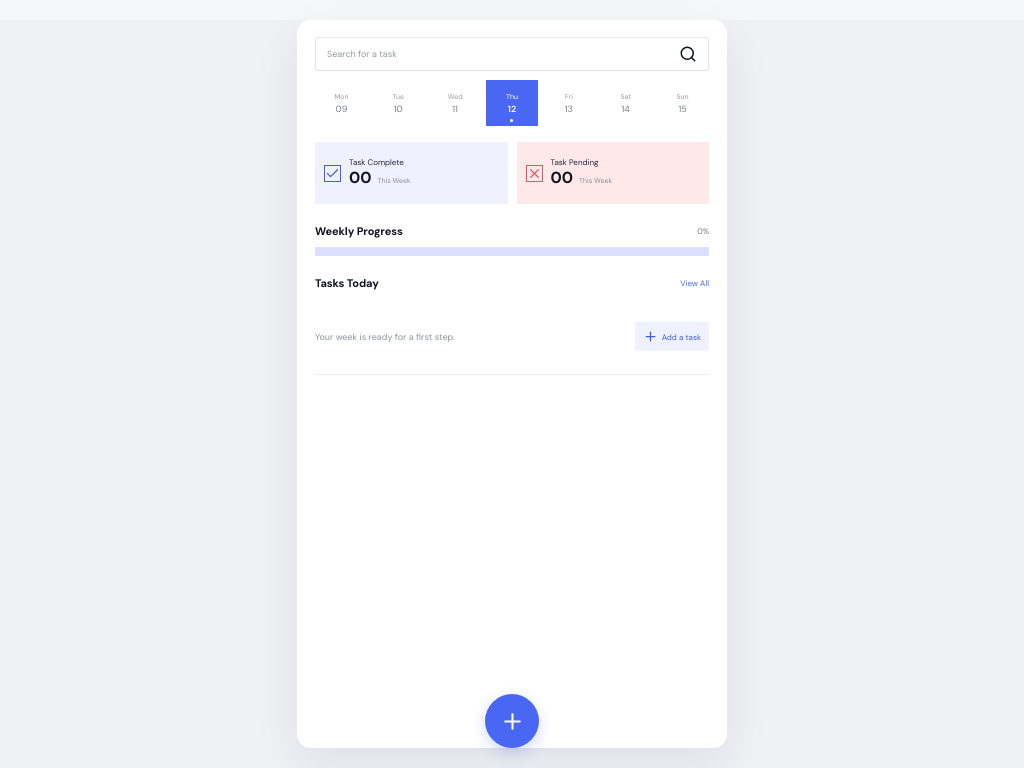
Test case: Weekwise planner › adds a task from the empty state and displays it in the selected week
Expected: the text "Your week is ready for a first step." is shown, [315,330,455,342]
Click the button "Add a task" at (672, 336), box [635,322,709,351]
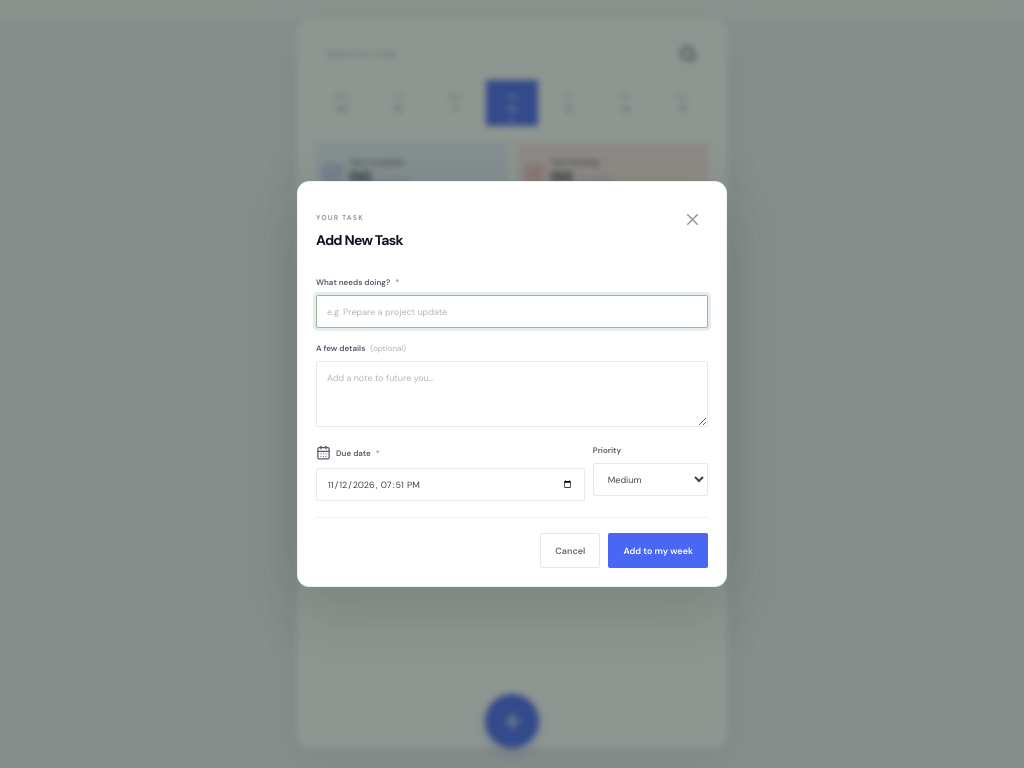
Type "Prepare release notes" into the field labelled "What needs doing? *" at (512, 312), box [316,295,708,328]
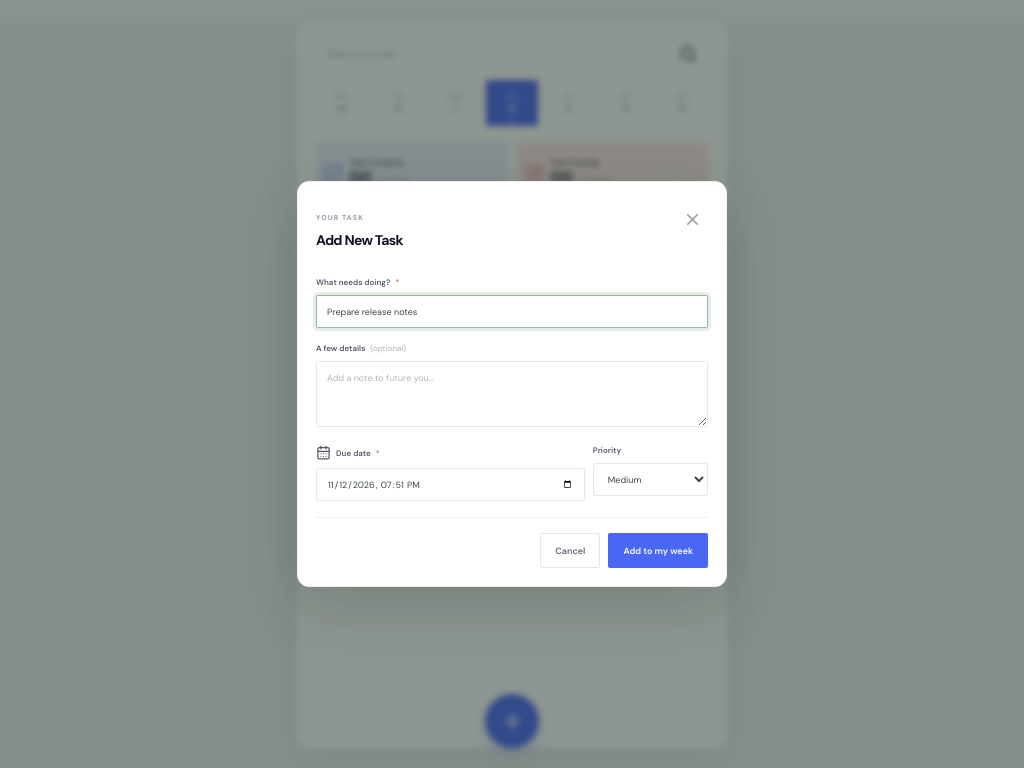
Click the button "Add to my week" at (658, 550), box [608,533,708,568]
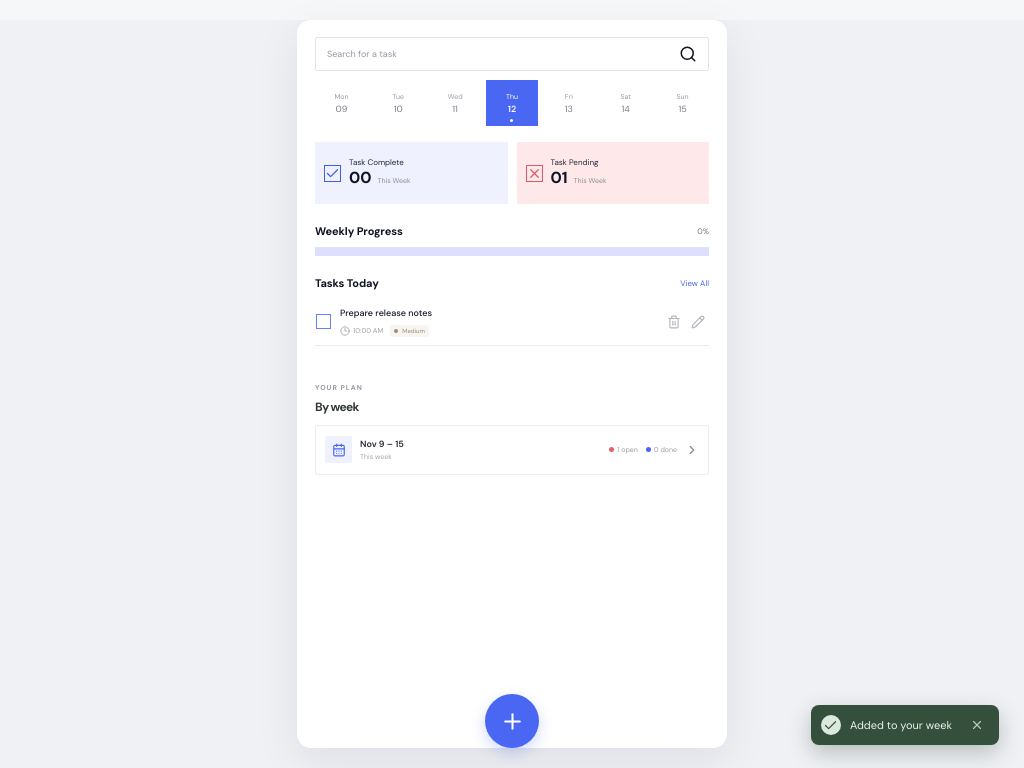
Result: the heading "Prepare release notes" is shown at [340,307,432,319]
